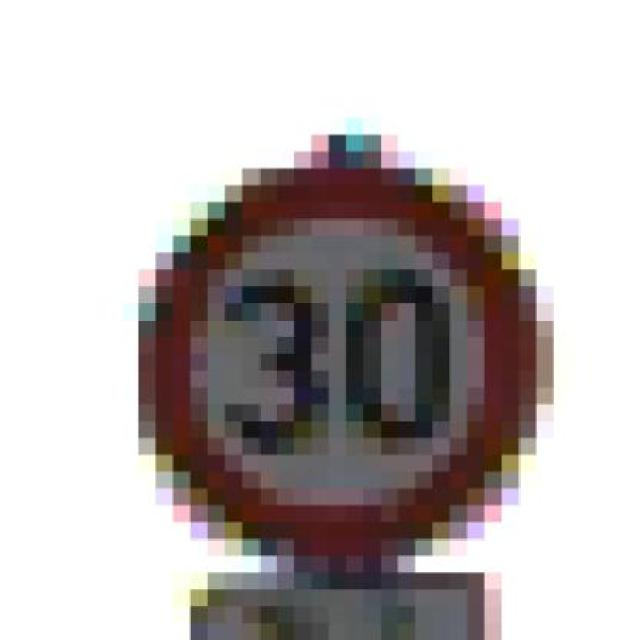Speed Limit 30 KMPh: (120, 67, 572, 590)
